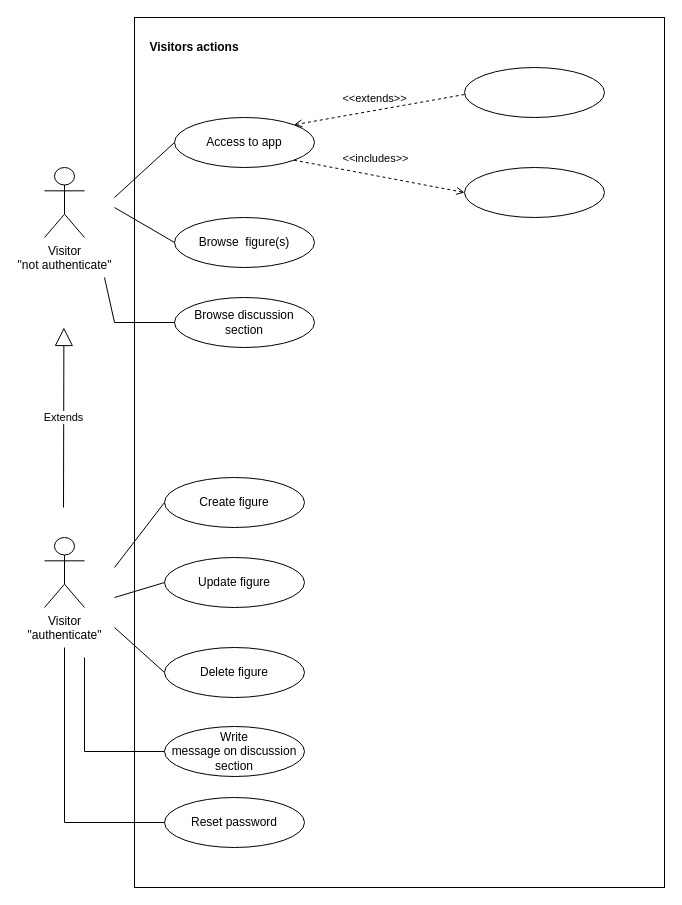
The diagram is 682 pixels wide and 905 high, and some of its shapes have lost their labels. The shapes that lost their labels are listed below. From the top down, each one's centre as x and y in pixels, then its label:
the point at 534,92: Sign Up
the point at 534,192: Sign In
